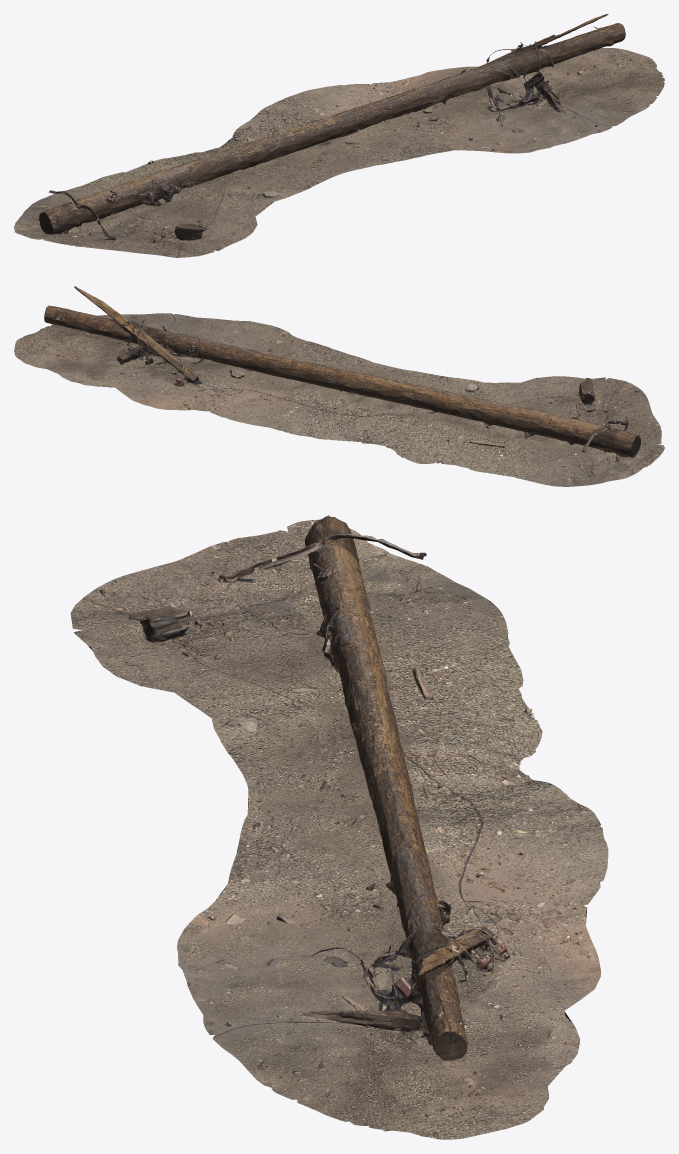
The model's file is MOD_DebrisBrokenTelePoleB.fbx.
The picture shows the model from 3 angles, top to bottom: view 1: azimuth 30°, elevation 25°; view 2: azimuth 150°, elevation 25°; view 3: azimuth 270°, elevation 25°; orthographic projection. The views are drawn at different scales.
Parts seen in each view (by area): view 1: MOD_DebrisBrokenTelePoleB; view 2: MOD_DebrisBrokenTelePoleB; view 3: MOD_DebrisBrokenTelePoleB.
Boxes of the visible parts, bbox=[...] form: MOD_DebrisBrokenTelePoleB: bbox=[14, 14, 664, 257]; MOD_DebrisBrokenTelePoleB: bbox=[14, 286, 664, 486]; MOD_DebrisBrokenTelePoleB: bbox=[70, 515, 608, 1139].
Size of the model in its own units: 1026 by 102 by 391.
